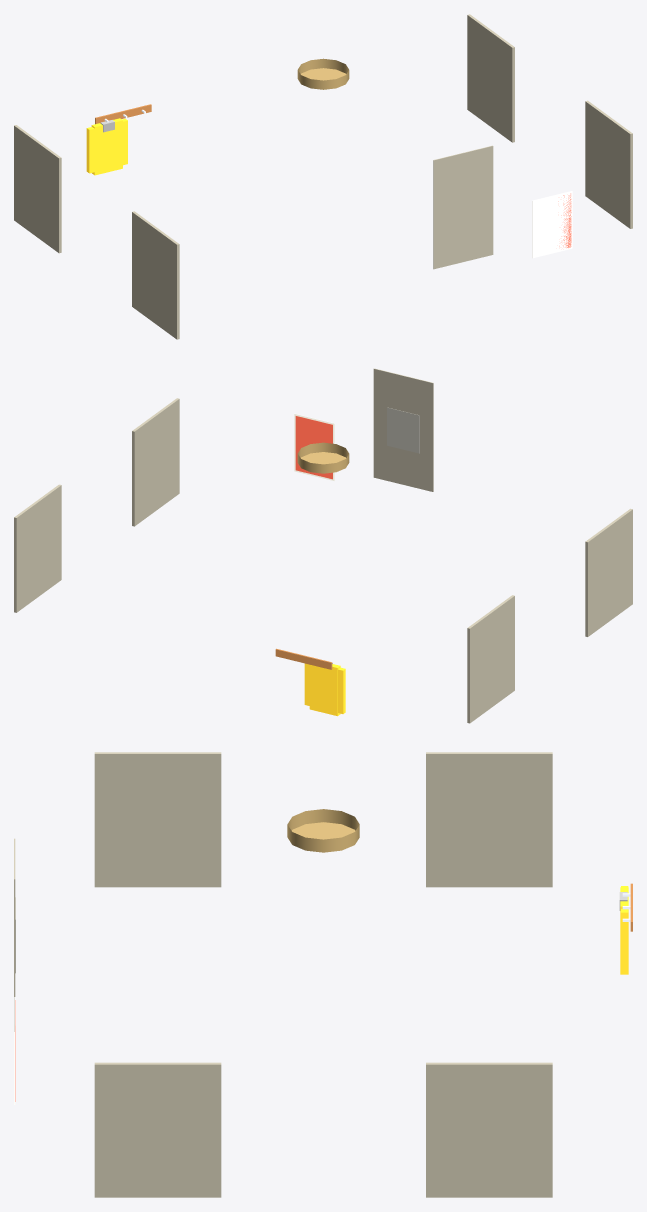
The model's file is SM_Interior_ra_player_room_NoCol.fbx.
3 renders of one model, top to bottom at view 1: azimuth 30°, elevation 25°; view 2: azimuth 150°, elevation 25°; view 3: azimuth 270°, elevation 25°, orthographic. The views are drawn at different scales.
Visible parts, largest first — view 1: SM_Interior_ra_player_room_NoCol; view 2: SM_Interior_ra_player_room_NoCol; view 3: SM_Interior_ra_player_room_NoCol.
Boxes of the visible parts, x1,y1,x2,y2 form: SM_Interior_ra_player_room_NoCol: [14, 14, 632, 339]; SM_Interior_ra_player_room_NoCol: [14, 368, 632, 723]; SM_Interior_ra_player_room_NoCol: [14, 752, 632, 1197].
Size of the model in its own units: 6.14 by 1.99 by 5.14.
